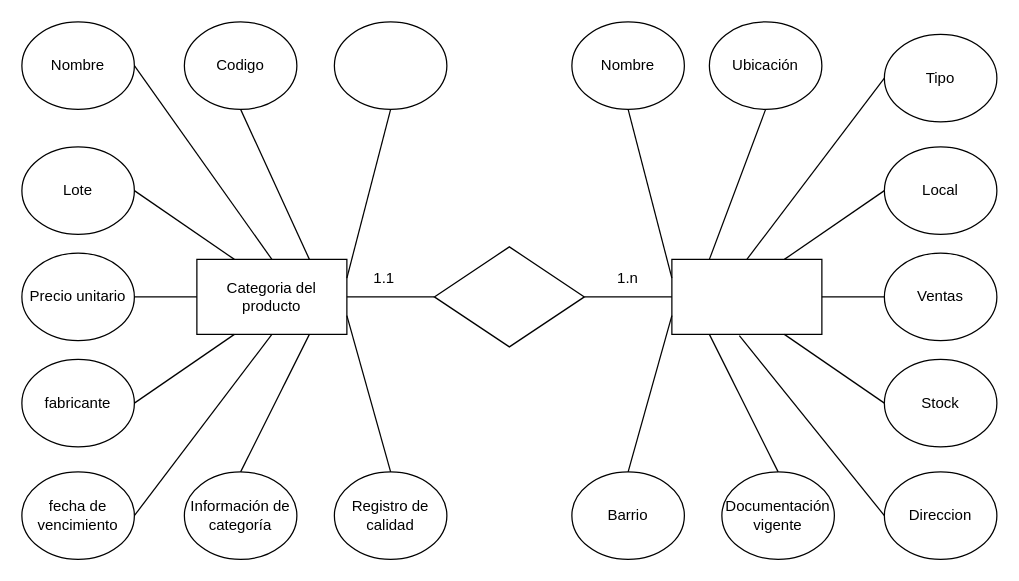
The diagram is 1019 pixels wide and 581 high, and some of its shapes have lost their labels. Here are the shapes that lost their labels. From the top down, the centre of each, then its label:
At [390,65]: "Descripcion".
At [508,296]: "Es constituido por".
At [746,296]: "Tienda".
